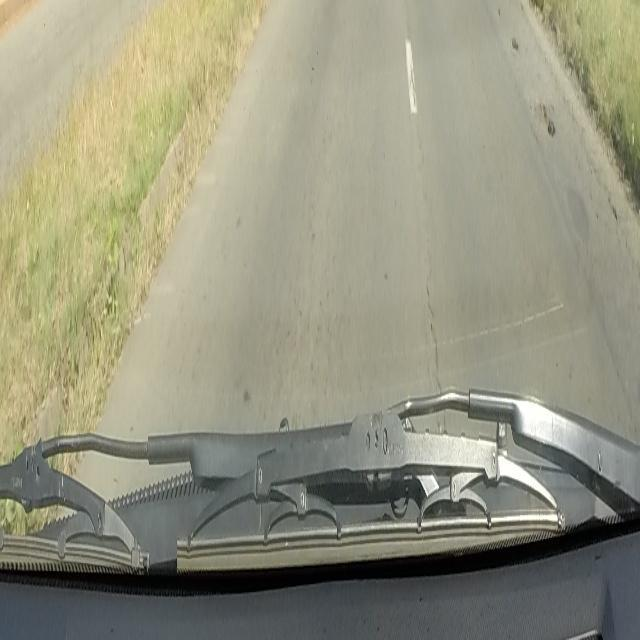pothole: (534, 101, 556, 141)
